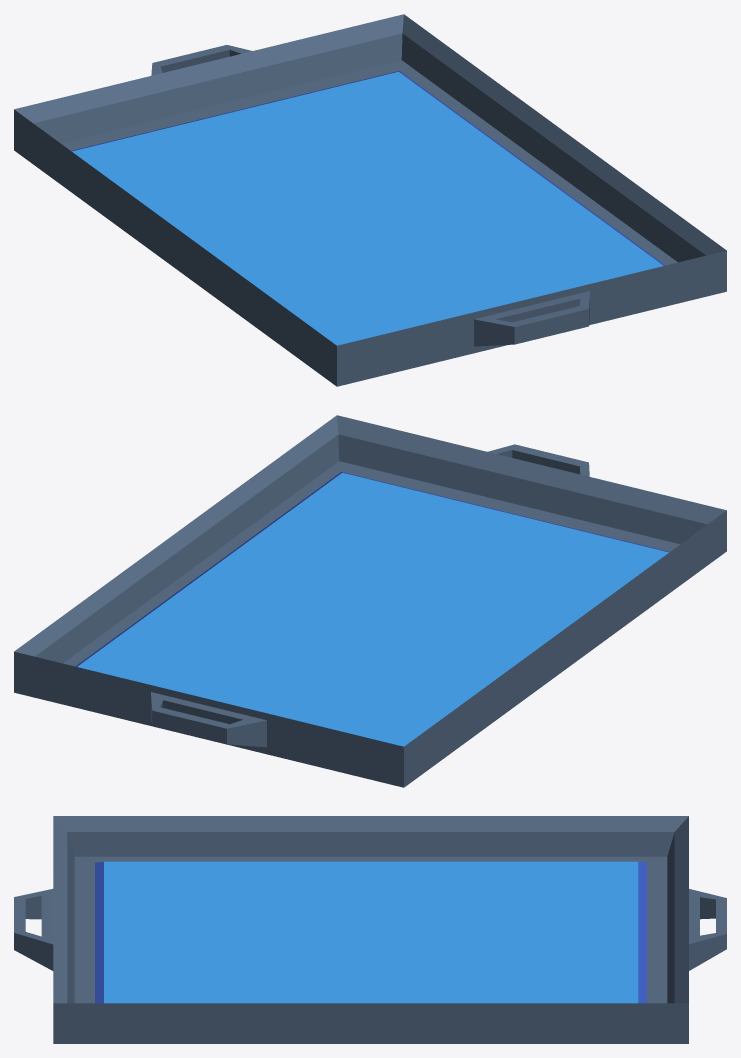
File: Furniture_Tray.fbx
3 renders of one model, top to bottom at view 1: azimuth 30°, elevation 25°; view 2: azimuth 150°, elevation 25°; view 3: azimuth 270°, elevation 25°, orthographic.
Visible parts, largest first — view 1: Cube.342; view 2: Cube.342; view 3: Cube.342.
Boxes of the visible parts, x1=… form: Cube.342: x1=14, y1=14, x2=726, y2=386; Cube.342: x1=14, y1=415, x2=726, y2=787; Cube.342: x1=14, y1=816, x2=726, y2=1043.
Bounding box in the file's own units: 41.42 × 4.17 × 66.65.
